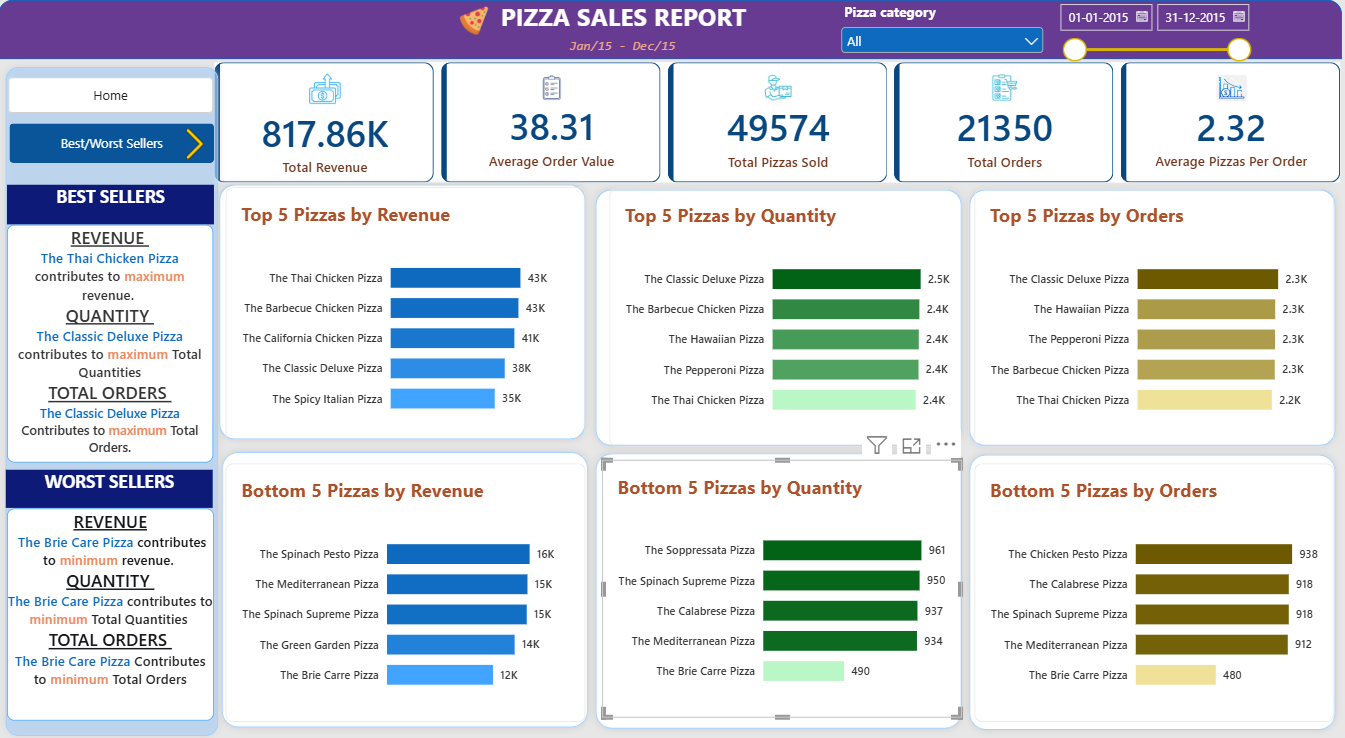

Layout of this report page (visuals, bound fields, positions):
{"tool":"powerbi","page":{"name":"Best/Worst Sellers","canvas":[1500,820],"ordinal":1},"visuals":[{"type":"shape","box":[18.1,9.7,1465,65],"z":0},{"type":"cardVisual","fields":{"Data":["pizza_db pizza_sales.Total Revenue","pizza_db pizza_sales.Average Order Value","pizza_db pizza_sales.Total Pizzas Sold","pizza_db pizza_sales.Total Orders","pizza_db pizza_sales.Average Pizzas Per Order"]},"box":[253.6,78.3,1229,131.9],"z":1000},{"type":"textbox","box":[530.6,9.7,338.4,52.9],"z":2000},{"type":"shape","box":[18.1,75.2,247.9,745.1],"z":3000},{"type":"textbox","box":[640.6,48.7,121.2,29.2],"z":4000},{"type":"image","box":[484.6,16.7,103.1,32],"z":5000},{"type":"shape","box":[250.9,202.6,415,293.9],"z":6000},{"type":"textbox","box":[27.9,211.7,225.6,43.2],"z":7000},{"type":"textbox","box":[27.5,255.1,224.6,259.4],"z":8000},{"type":"textbox","box":[27.9,564,225.6,231.2],"z":9000},{"type":"textbox","box":[26.5,522.3,225.6,41.8],"z":10000},{"type":"slicer","fields":{"Values":["pizza_db pizza_sales.pizza_category"]},"box":[931.7,12.5,229.8,58.5],"z":11000},{"type":"slicer","fields":{"Values":["pizza_db pizza_sales.order_date"]},"box":[1168.1,10.1,218.8,84.1],"z":12000},{"type":"shape","box":[661.5,208.9,415,295.2],"z":13000},{"type":"shape","box":[1068.2,208.9,415,295.2],"z":14000},{"type":"shape","box":[253.5,494.4,415,316.1],"z":15000},{"type":"shape","box":[661.5,495.8,415,316.1],"z":16000},{"type":"shape","box":[1068.2,497.2,415,316.1],"z":17000},{"type":"barChart","title":"Top 5 Pizzas by Revenue","fields":{"Category":["pizza_db pizza_sales.pizza_name"],"Y":["pizza_db pizza_sales.Total Revenue"]},"box":[265.3,213.9,392.4,281.4],"z":18000},{"type":"barChart","title":"Bottom 5 Pizzas by Revenue","fields":{"Category":["pizza_db pizza_sales.pizza_name"],"Y":["pizza_db pizza_sales.Total Revenue"]},"box":[265.3,514.6,392.4,281.4],"z":19000},{"type":"barChart","title":"Top 5 Pizzas by Quantity","fields":{"Category":["pizza_db pizza_sales.pizza_name"],"Y":["pizza_db pizza_sales.Total Pizzas Sold"]},"box":[683.4,215.5,392.4,281.4],"z":20000},{"type":"barChart","title":"Bottom 5 Pizzas by Quantity","fields":{"Category":["pizza_db pizza_sales.pizza_name"],"Y":["pizza_db pizza_sales.Total Pizzas Sold"]},"box":[675.4,511.4,392.4,281.4],"z":20001},{"type":"barChart","title":"Top 5 Pizzas by Orders","fields":{"Category":["pizza_db pizza_sales.pizza_name"],"Y":["pizza_db pizza_sales.Total Orders"]},"box":[1082.2,215.5,392.4,281.4],"z":20002},{"type":"barChart","title":"Bottom 5 Pizzas by Orders","fields":{"Category":["pizza_db pizza_sales.pizza_name"],"Y":["pizza_db pizza_sales.Total Orders"]},"box":[1082.2,514.6,392.4,281.4],"z":20003},{"type":"pageNavigator","box":[29,94.2,223.2,39.1],"z":20004},{"type":"pageNavigator","box":[30.4,144.9,223.2,43.5],"z":20005},{"type":"image","box":[156.5,149.3,150.7,33.3],"z":20006}]}

Visuals, with their boxes in screenshot pixels (x1, y1, x2, y2), scaled from the page's 1500x820 canvas onto the 1345x738 screenshot:
shape: (16,9,1330,67)
cardVisual - pizza_db pizza_sales.Total Revenue x pizza_db pizza_sales.Average Order Value: (227,70,1329,189)
textbox: (476,9,779,56)
shape: (16,68,239,737)
textbox: (574,44,683,70)
image: (435,15,527,44)
shape: (225,182,597,447)
textbox: (25,191,227,229)
textbox: (25,230,226,463)
textbox: (25,508,227,716)
textbox: (24,470,226,508)
slicer - pizza_db pizza_sales.pizza_category: (835,11,1041,64)
slicer - pizza_db pizza_sales.order_date: (1047,9,1244,85)
shape: (593,188,965,454)
shape: (958,188,1330,454)
shape: (227,445,599,729)
shape: (593,446,965,731)
shape: (958,447,1330,732)
"Top 5 Pizzas by Revenue" barChart: (238,193,590,446)
"Bottom 5 Pizzas by Revenue" barChart: (238,463,590,716)
"Top 5 Pizzas by Quantity" barChart: (613,194,965,447)
"Bottom 5 Pizzas by Quantity" barChart: (606,460,957,714)
"Top 5 Pizzas by Orders" barChart: (970,194,1322,447)
"Bottom 5 Pizzas by Orders" barChart: (970,463,1322,716)
pageNavigator: (26,85,226,120)
pageNavigator: (27,130,227,170)
image: (140,134,275,164)
